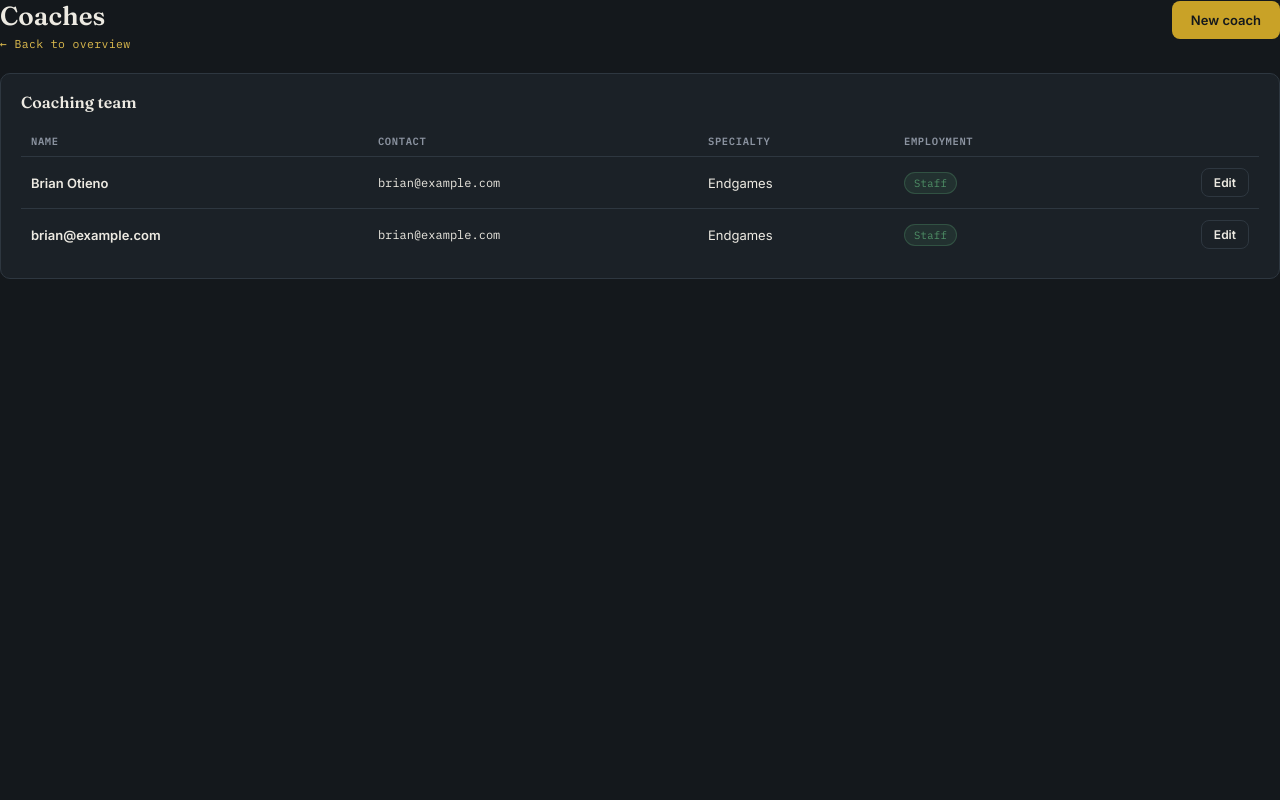
Test: CoachesAdmin › creates a coach and surfaces the temp password
Expected: the table is shown, [21,126,1259,260]
Click the button "New coach": (1226, 20) [1172,1,1279,39]
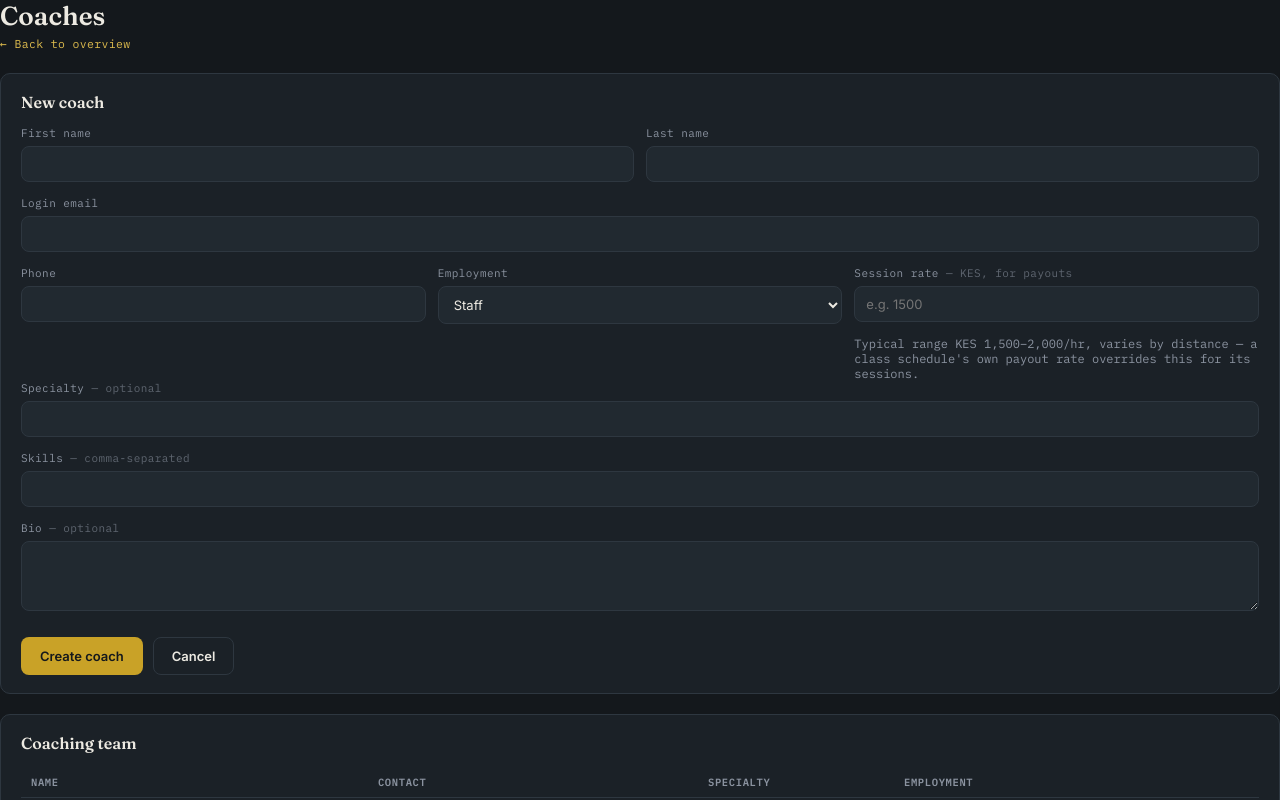
In the field labelled "First name": (328, 164) [21,146,634,182], type "New"
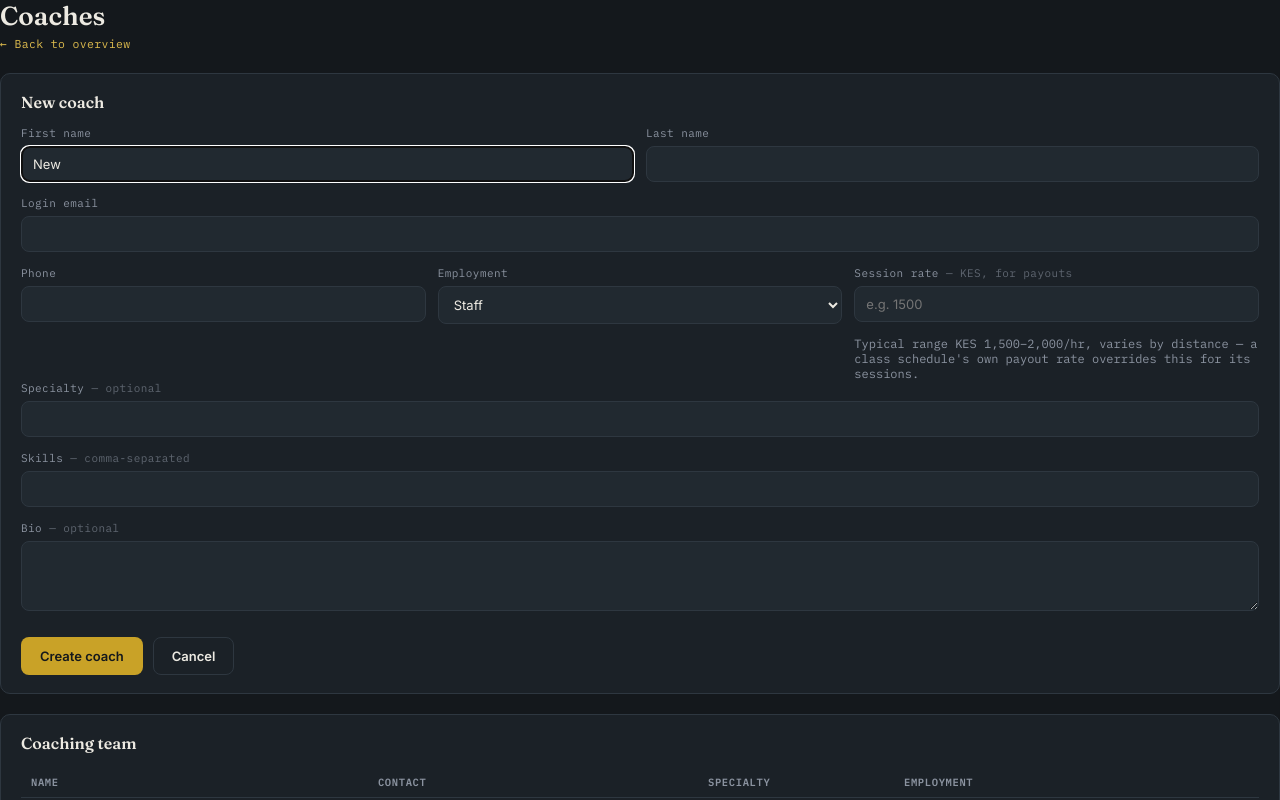
In the field labelled "Last name": (952, 164) [646,146,1259,182], type "Coach"
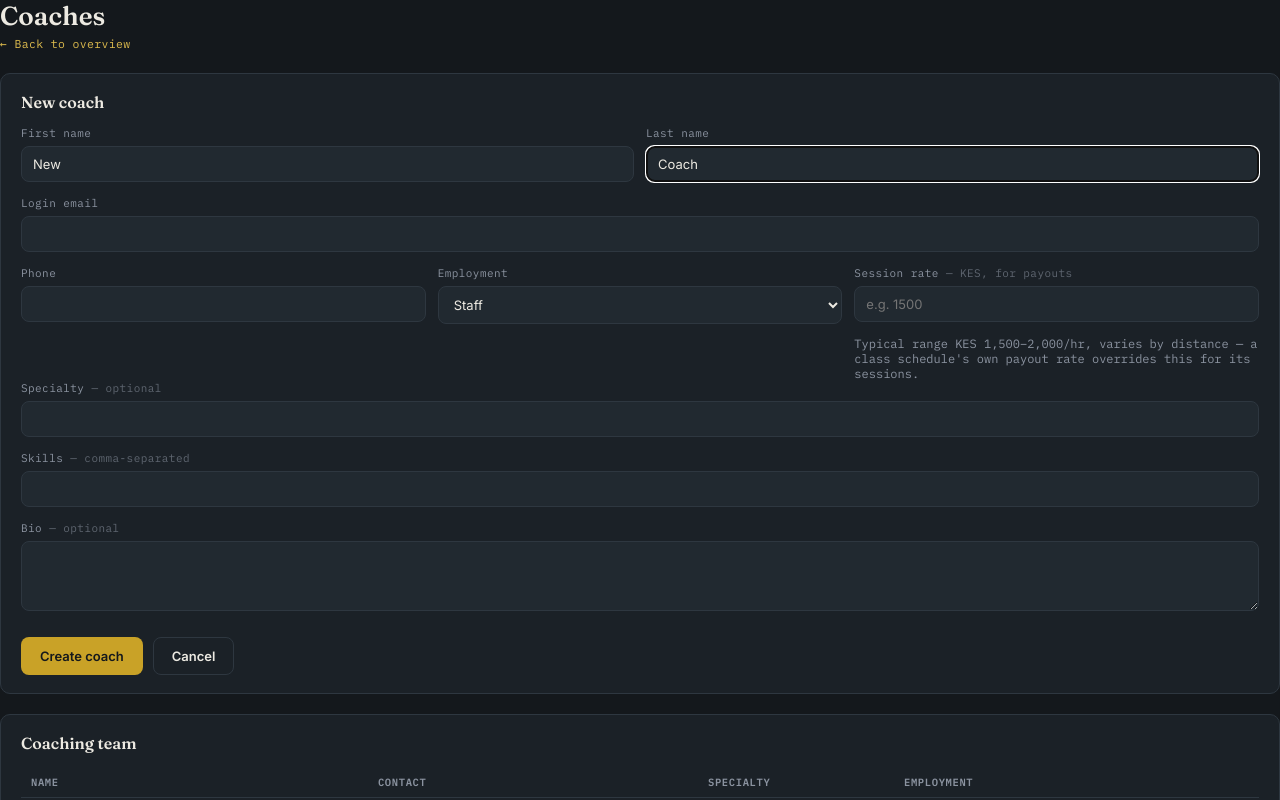
In the field labelled "Login email": (640, 234) [21,216,1259,252], type "new@x.com"
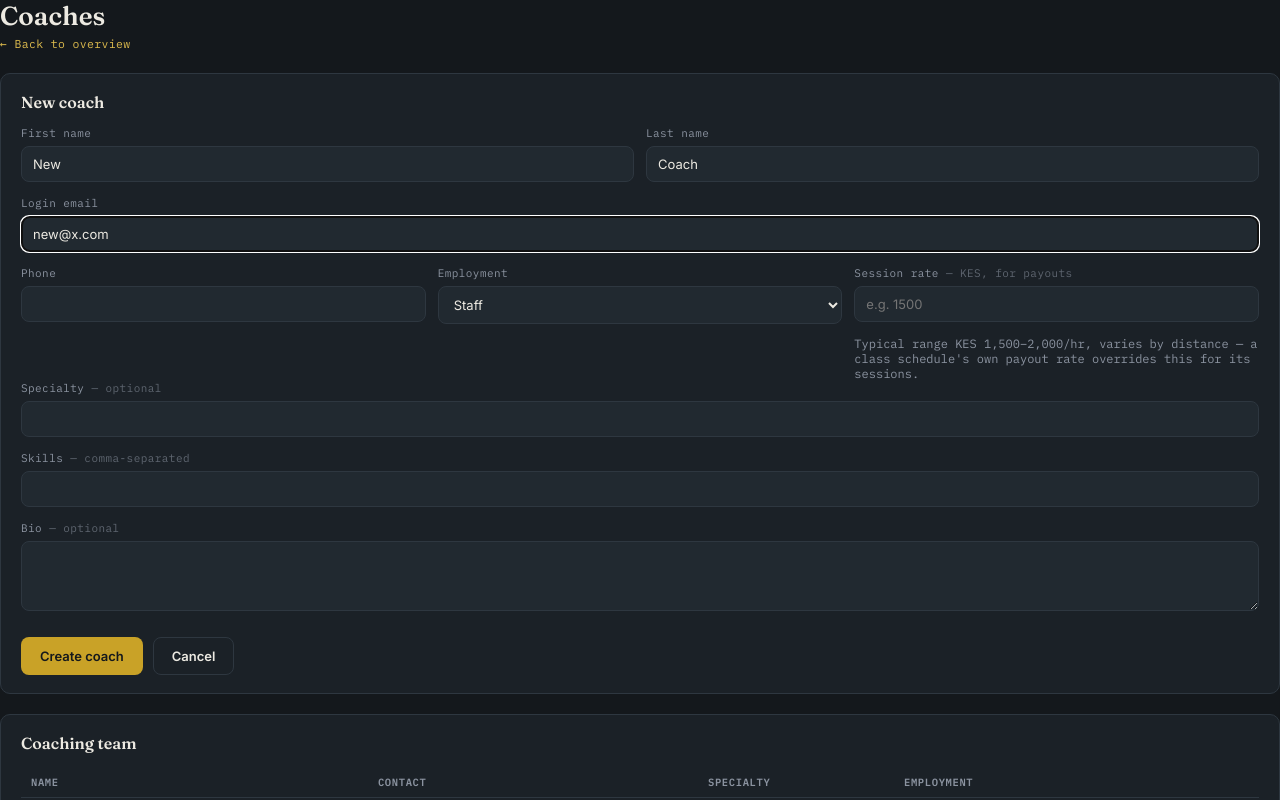
Click the button "Create coach": (82, 656) [21,637,143,675]
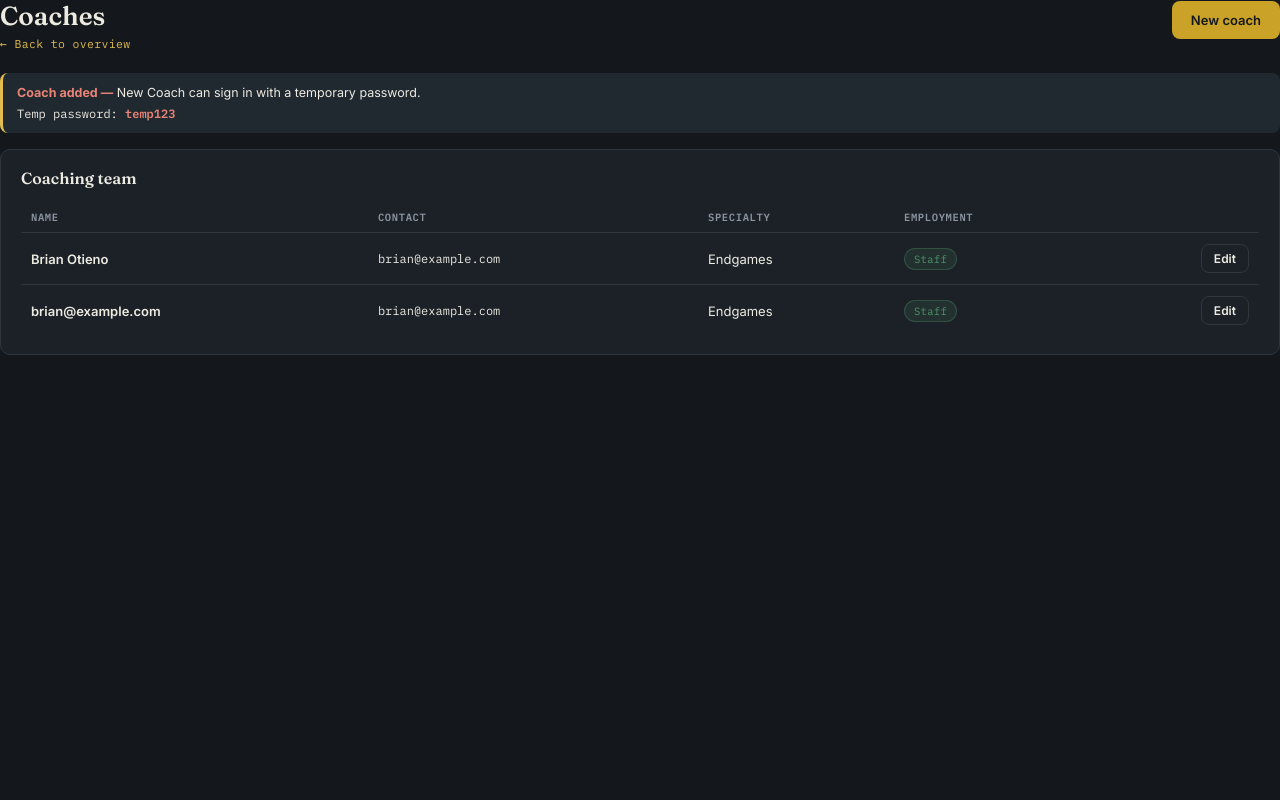
Expected: the text "Temp password: temp123" is shown, [17,106,175,121]
